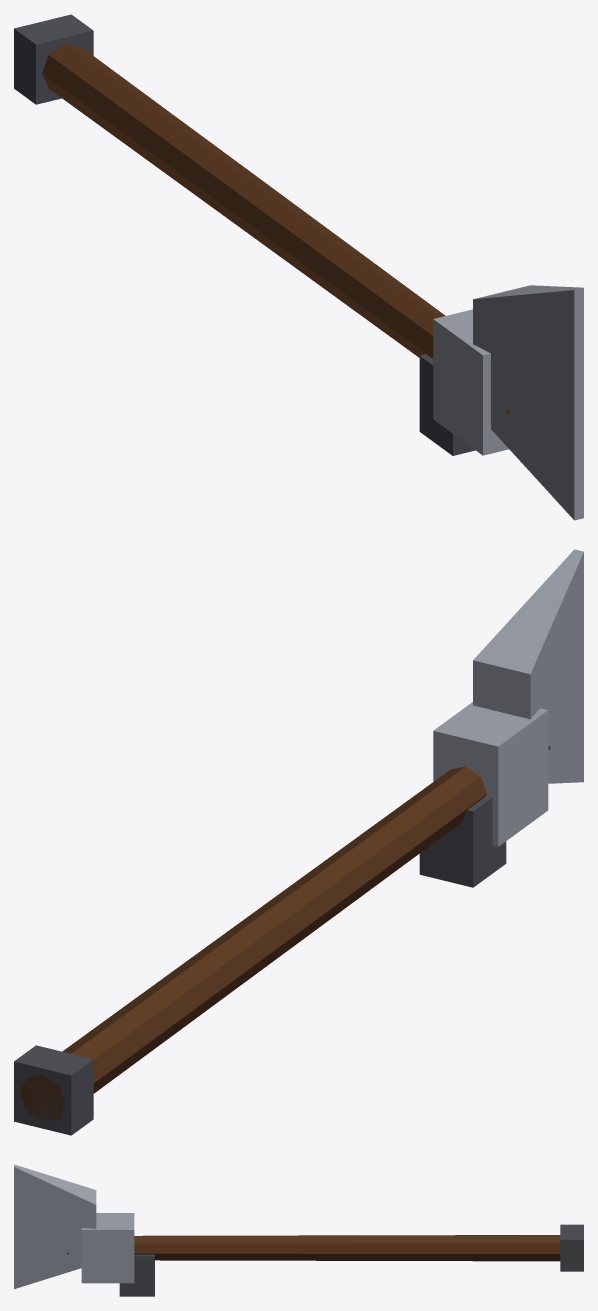
The model's file is axe.obj.
The picture shows the model from 3 angles, top to bottom: view 1: azimuth 30°, elevation 25°; view 2: azimuth 150°, elevation 25°; view 3: azimuth 270°, elevation 25°; orthographic projection. The views are drawn at different scales.
Size of the model in its own units: 0.0544 by 0.1864 by 0.776.
